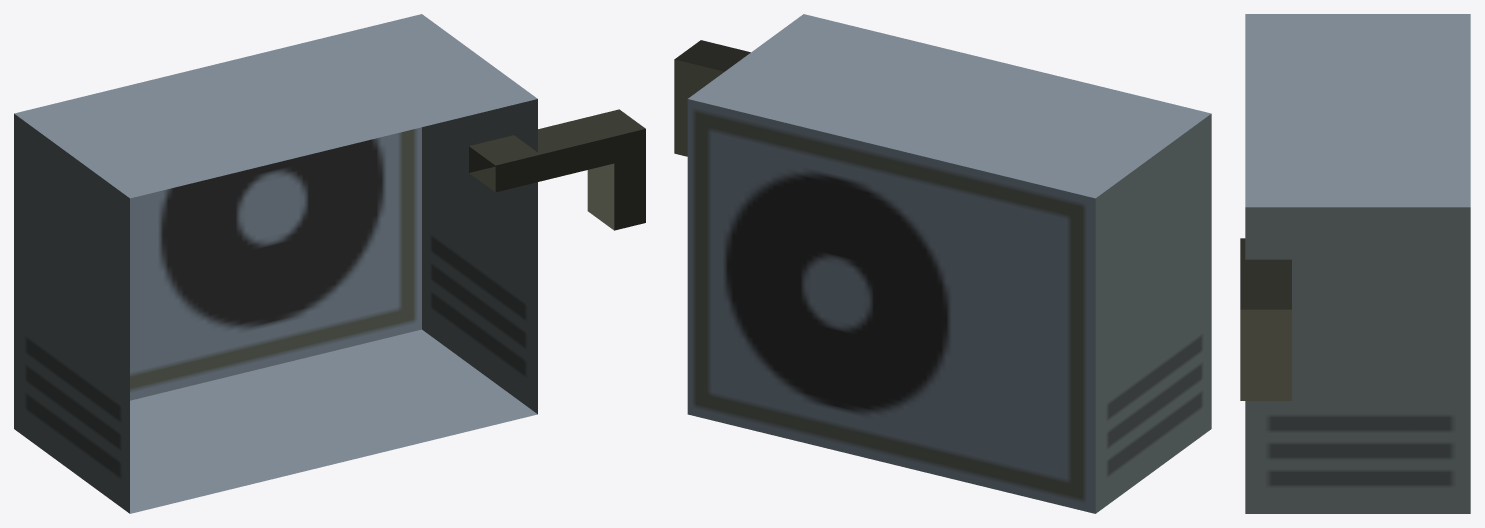
The model's file is AirConditioner_Wall.fbx.
3 renders of one model, left to right at view 1: azimuth 30°, elevation 25°; view 2: azimuth 150°, elevation 25°; view 3: azimuth 270°, elevation 25°, orthographic. The views are drawn at different scales.
Visible parts, largest first — view 1: AirConditioner_Wall; view 2: AirConditioner_Wall; view 3: AirConditioner_Wall.
Boxes of the visible parts, x1=… form: AirConditioner_Wall: x1=14, y1=14, x2=645, y2=513; AirConditioner_Wall: x1=674, y1=14, x2=1211, y2=513; AirConditioner_Wall: x1=1240, y1=14, x2=1470, y2=513.
Bounding box in the file's own units: 1.22 × 0.719 × 0.4901.
